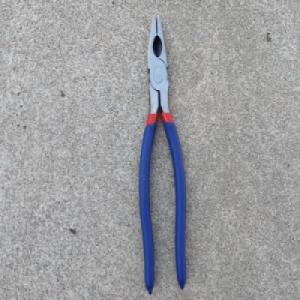Pliers: (136, 11, 188, 297)
